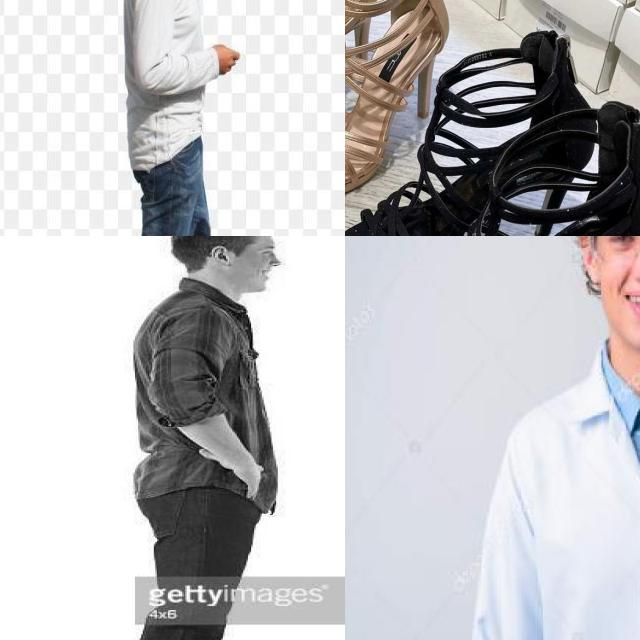No_Ear-Protection: (201, 236, 249, 279)
Sandals: (345, 14, 640, 236), (345, 0, 460, 218)
face_nomask: (597, 236, 640, 317), (236, 255, 293, 297)
glasses: (580, 236, 640, 267)
hand_noglove: (201, 26, 245, 88)
person: (114, 236, 282, 640), (477, 236, 640, 640), (122, 0, 240, 236)
